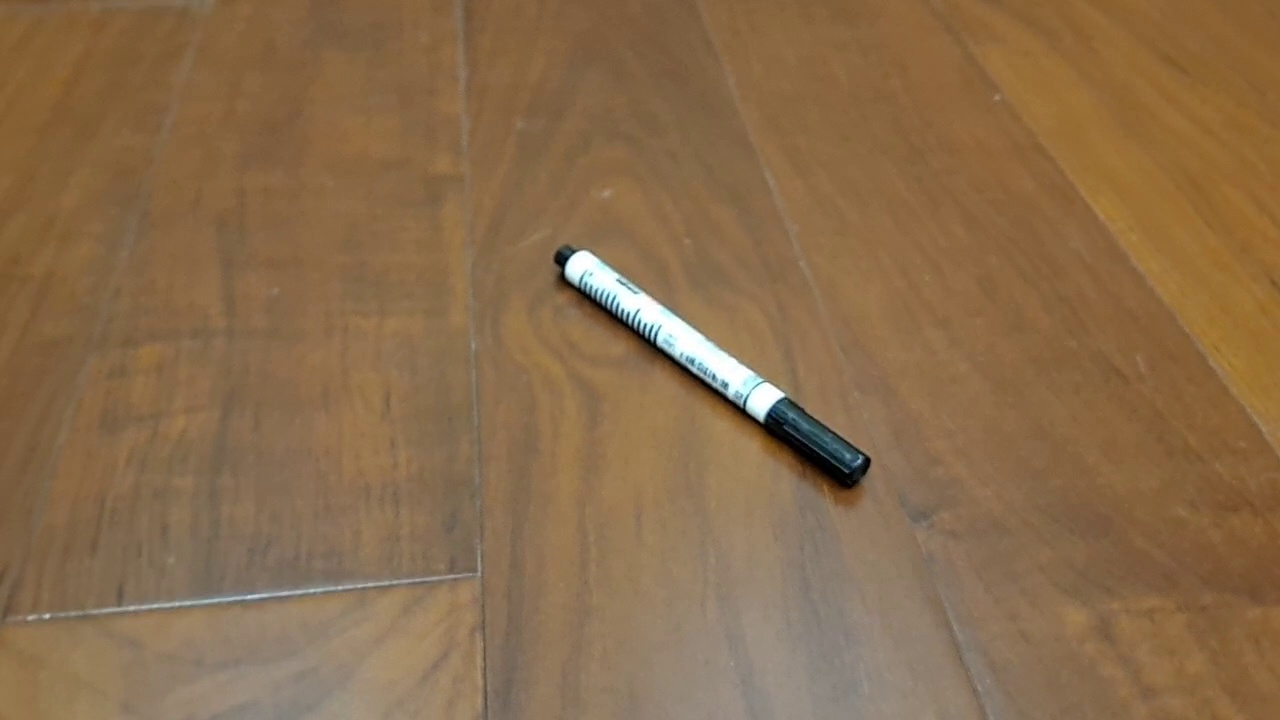pen: (552, 243, 872, 492)
